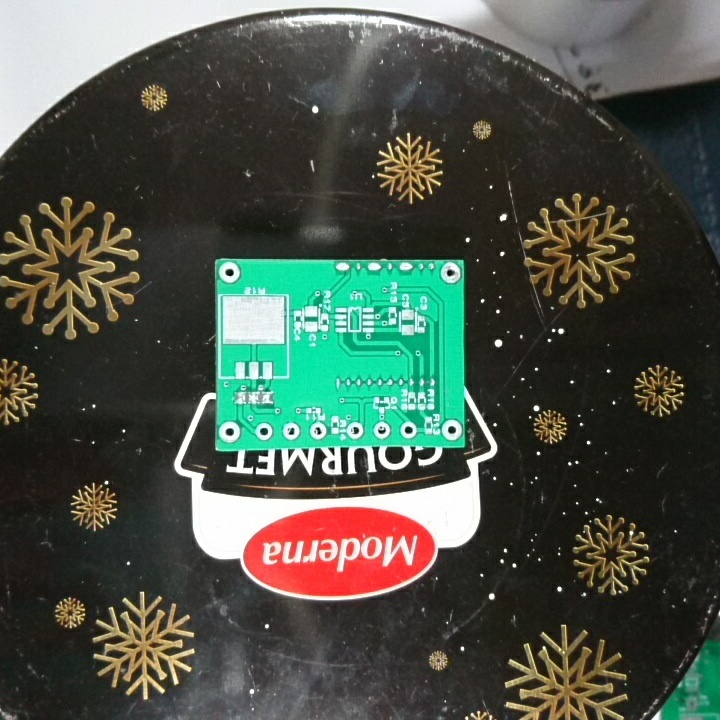F: (217, 420, 245, 445), (439, 417, 465, 443), (215, 260, 243, 284), (439, 262, 463, 286), (279, 419, 302, 443), (252, 421, 275, 442), (306, 419, 329, 440), (344, 420, 365, 440), (370, 420, 391, 440), (397, 420, 418, 440)
P: (395, 260, 415, 276), (364, 260, 384, 274), (333, 260, 351, 275)
